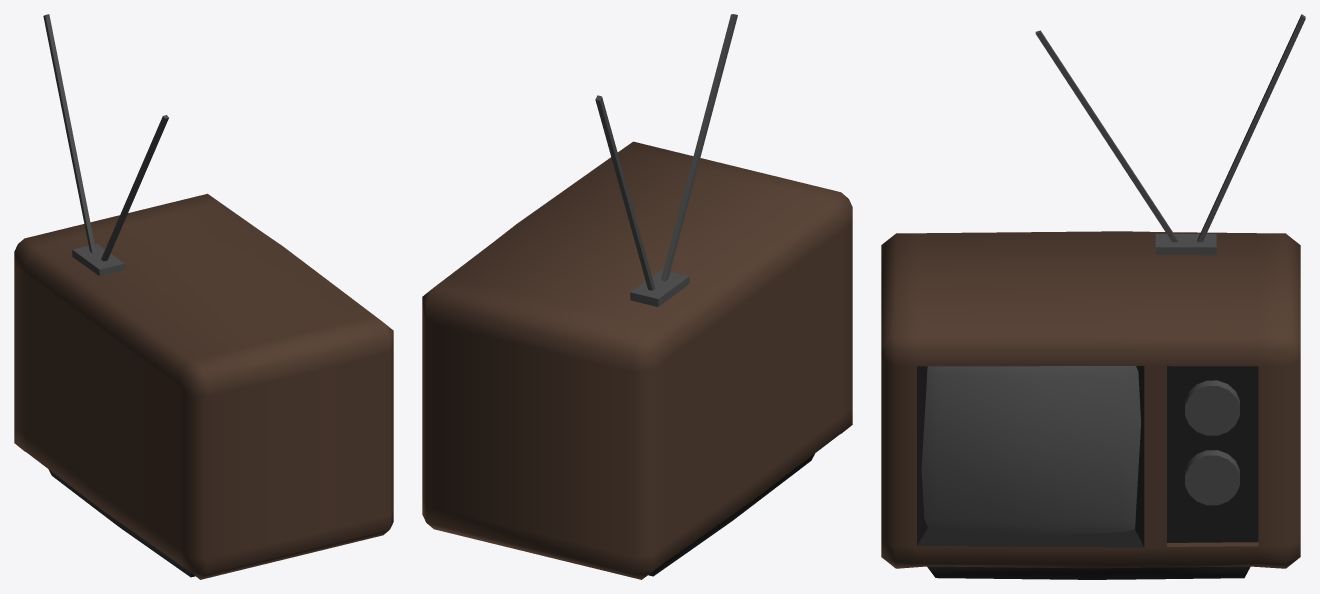
File: S_Television.fbx
3 views of the same model, side by side, from view 1: azimuth 30°, elevation 25°; view 2: azimuth 150°, elevation 25°; view 3: azimuth 270°, elevation 25° (orthographic). The views are drawn at different scales.
Visible parts, largest first — view 1: S_Television; view 2: S_Television; view 3: S_Television.
Boxes of the visible parts, left/top/right/bottom form: S_Television: left=14, top=14, right=393, bottom=579; S_Television: left=422, top=14, right=852, bottom=579; S_Television: left=881, top=14, right=1305, bottom=579.
Bounding box in the file's own units: 40.88 × 82.31 × 65.17.
